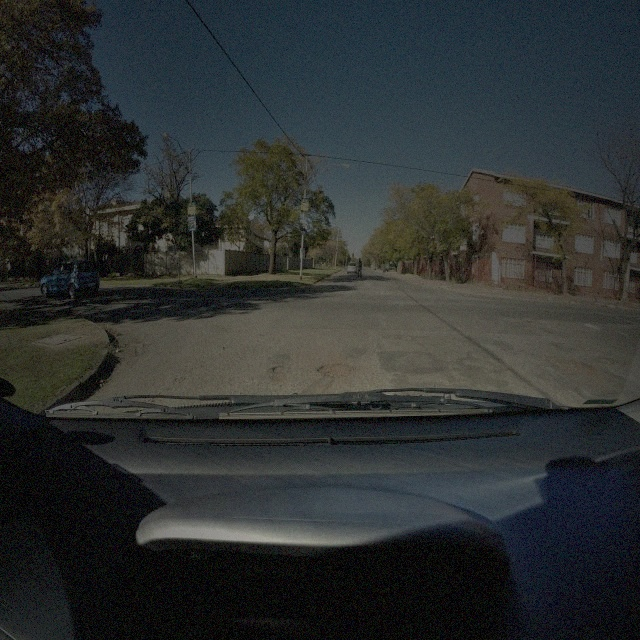pothole: (316, 361, 353, 380), (272, 364, 288, 376)
